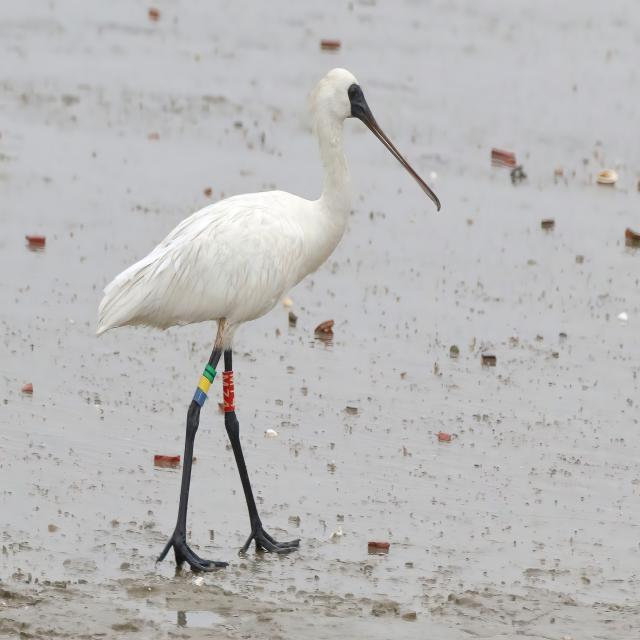Black-faced spoonbill: (97, 69, 439, 570)
